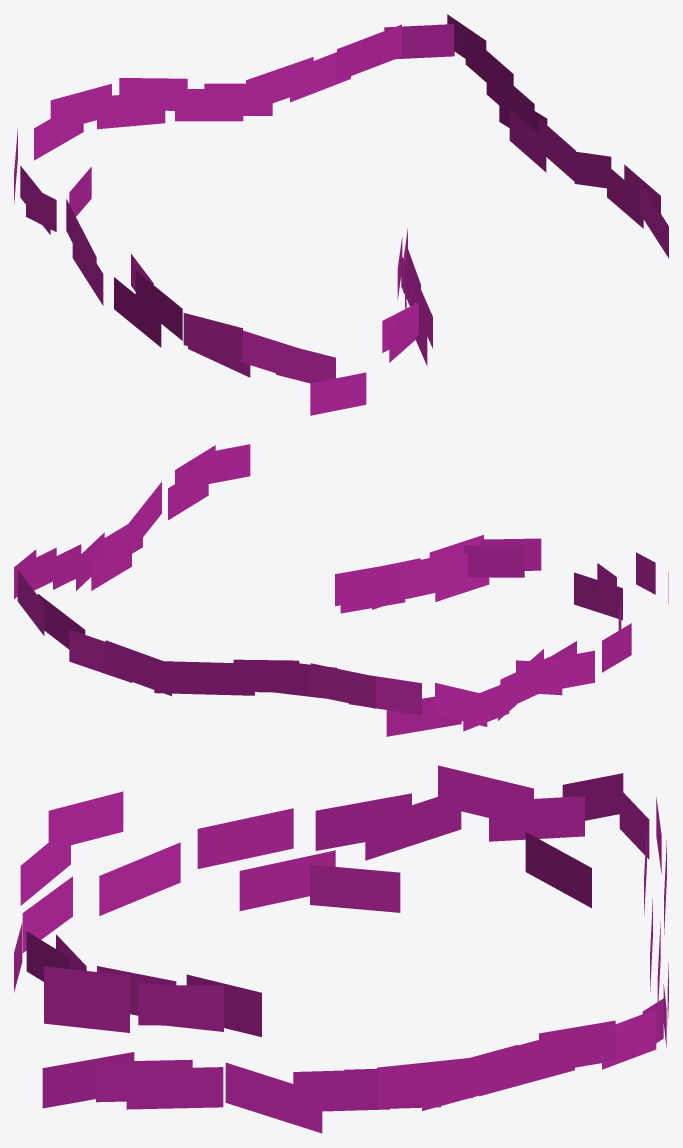
The model's file is cluster_10.fbx.
The picture shows the model from 3 angles, top to bottom: view 1: azimuth 30°, elevation 25°; view 2: azimuth 150°, elevation 25°; view 3: azimuth 270°, elevation 25°; orthographic projection. The views are drawn at different scales.
Visible parts, largest first — view 1: cluster_10; view 2: cluster_10; view 3: cluster_10.
Boxes of the visible parts, left/top/right/bottom form: cluster_10: left=14, top=14, right=668, bottom=415; cluster_10: left=14, top=444, right=668, bottom=736; cluster_10: left=14, top=765, right=668, bottom=1133.
Size of the model in its own units: 2392590 by 653401 by 2286158.
